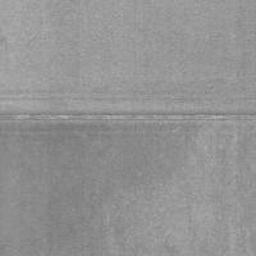Welding line: (0, 113, 256, 122)
